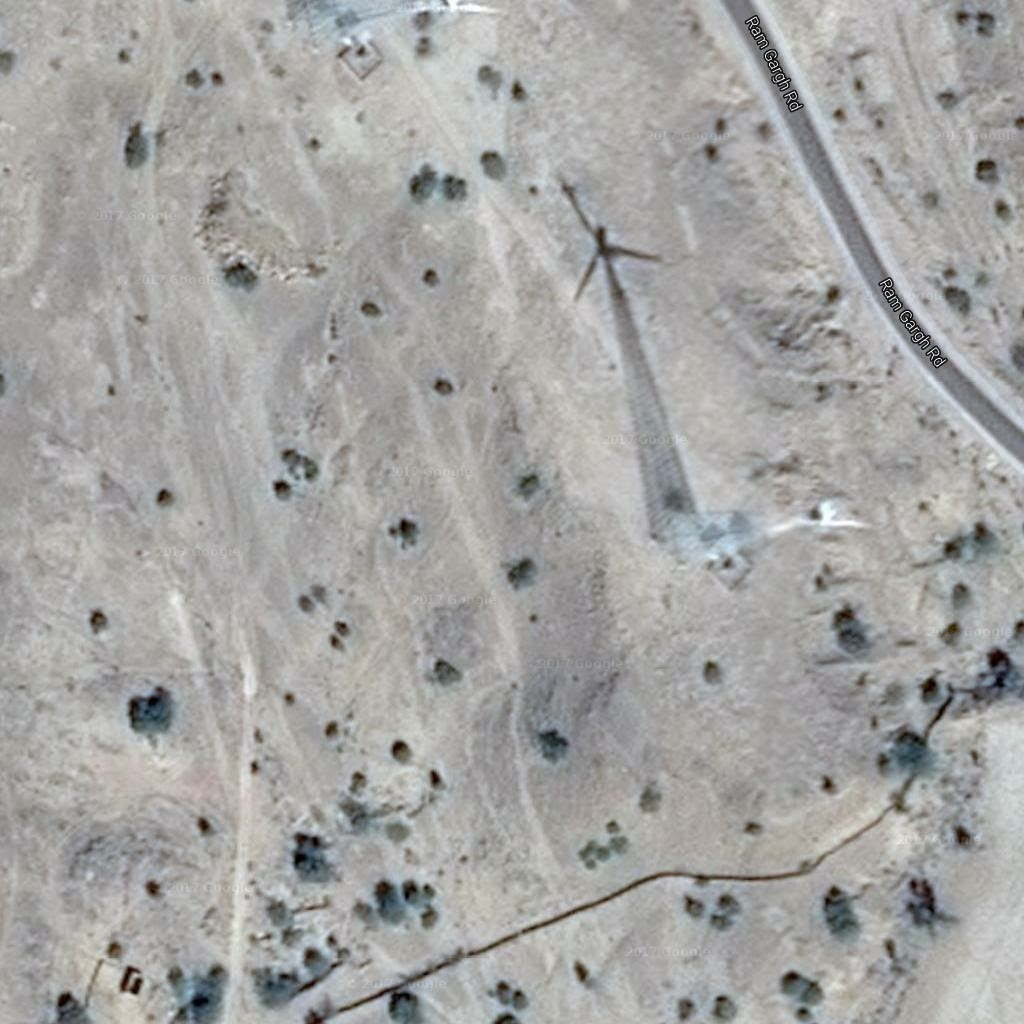Windmill: (542, 171, 719, 568)
